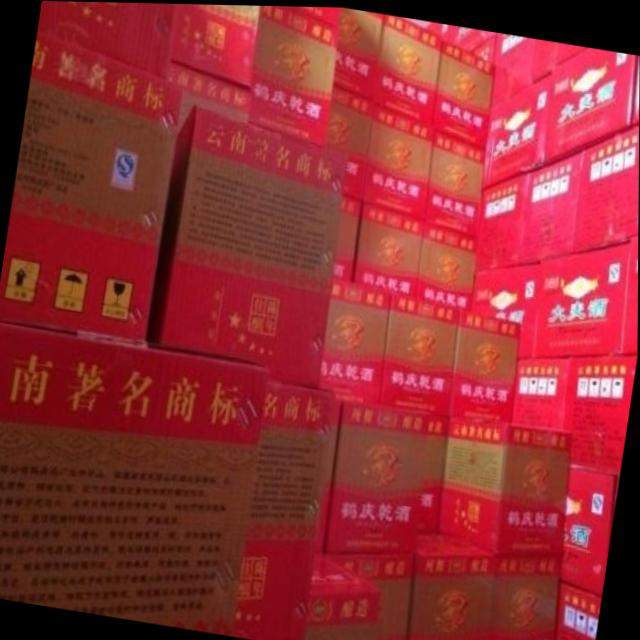box: (0, 321, 268, 634), (0, 30, 185, 342), (147, 105, 346, 387), (321, 401, 450, 550), (437, 418, 574, 552), (246, 381, 339, 544), (250, 5, 339, 147), (537, 238, 632, 354), (544, 45, 636, 164), (38, 1, 176, 76), (382, 292, 462, 418), (408, 530, 499, 640), (562, 353, 637, 474), (322, 280, 393, 405), (322, 548, 416, 640), (234, 539, 318, 640), (364, 99, 434, 219), (483, 70, 553, 189), (575, 123, 639, 253), (450, 312, 522, 421), (169, 3, 261, 88), (372, 14, 443, 124), (563, 465, 619, 594), (432, 36, 493, 149), (307, 549, 382, 640), (355, 201, 425, 297), (471, 262, 541, 357), (525, 147, 583, 261), (426, 128, 487, 236), (492, 552, 566, 640), (166, 60, 252, 133), (417, 219, 479, 313), (325, 82, 373, 201), (476, 171, 533, 269), (333, 6, 383, 99), (492, 31, 552, 104), (512, 354, 572, 427), (408, 16, 496, 57), (333, 194, 364, 282), (559, 579, 603, 640), (620, 235, 639, 353), (553, 39, 586, 69), (288, 5, 340, 24)
